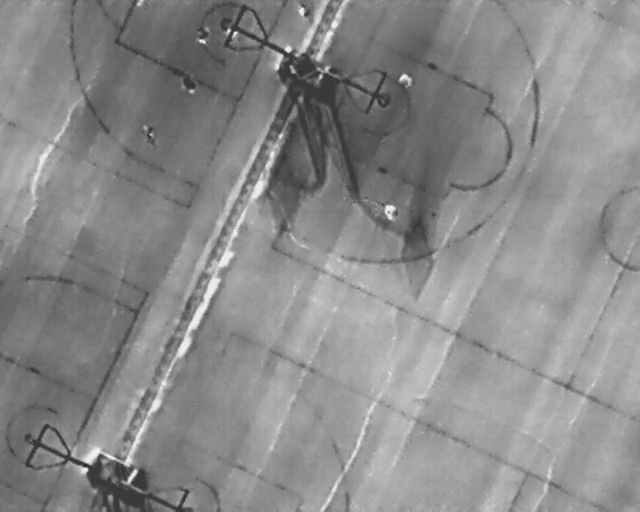Person: (143, 123, 157, 147), (182, 73, 196, 95), (197, 24, 210, 45), (400, 71, 413, 91), (383, 202, 396, 220), (299, 3, 309, 20)
